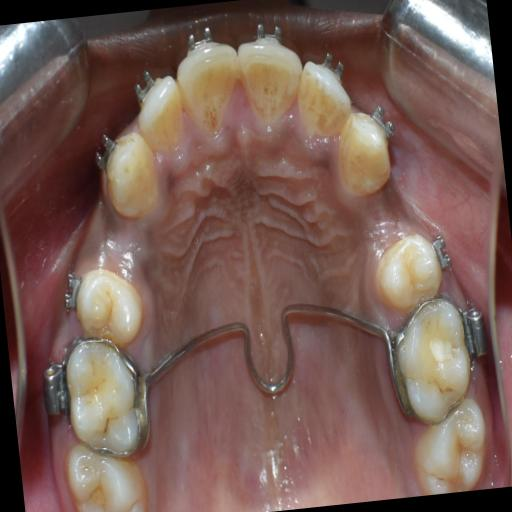correct_brace: (62, 261, 147, 350), (370, 232, 460, 312), (88, 116, 125, 170), (249, 10, 292, 54), (316, 40, 348, 92), (130, 56, 161, 103), (184, 24, 218, 64), (368, 102, 396, 144)
incorrect_brace: (300, 44, 354, 148), (132, 58, 186, 150), (60, 264, 88, 316), (428, 230, 456, 276)
